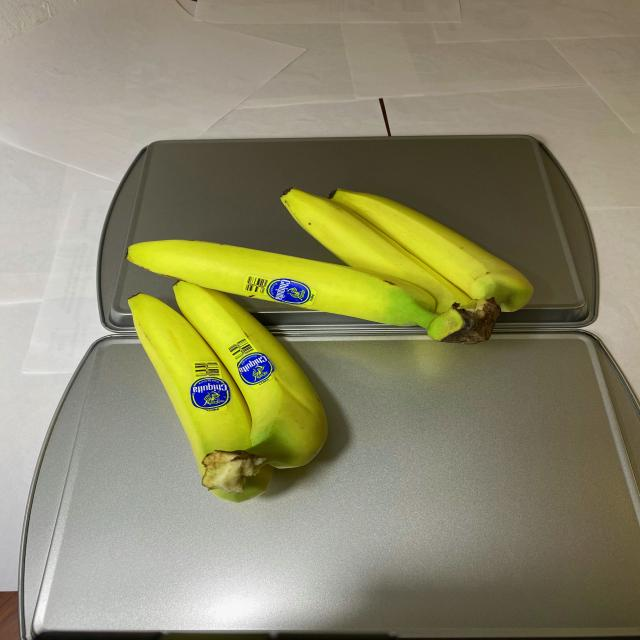banana: (121, 185, 536, 502)
